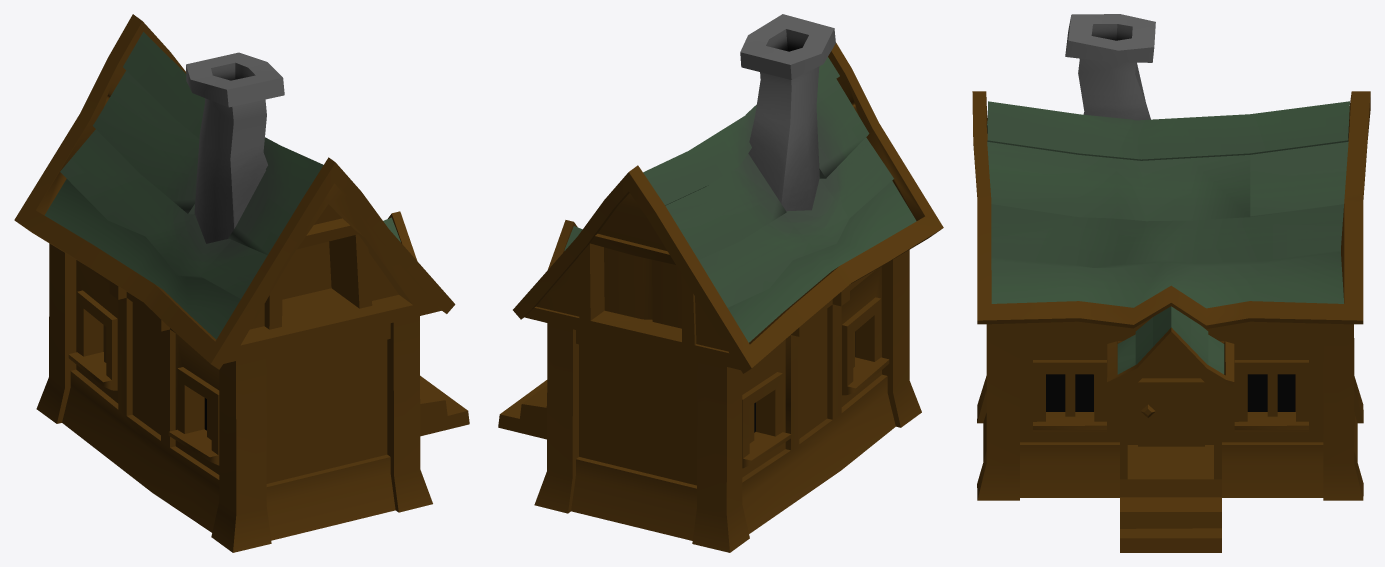
The model's file is mod_vill_house_b.fbx.
3 views of the same model, side by side, from view 1: azimuth 30°, elevation 25°; view 2: azimuth 150°, elevation 25°; view 3: azimuth 270°, elevation 25° (orthographic). The views are drawn at different scales.
Parts seen in each view (by area): view 1: mod_vill_house_b; view 2: mod_vill_house_b; view 3: mod_vill_house_b.
Part boxes in pixels (box(x1,y1,x2,y2)): mod_vill_house_b: box(14, 14, 469, 552); mod_vill_house_b: box(498, 14, 943, 552); mod_vill_house_b: box(972, 14, 1370, 552).
Bounding box in the file's own units: 11.63 × 14.01 × 12.31.
